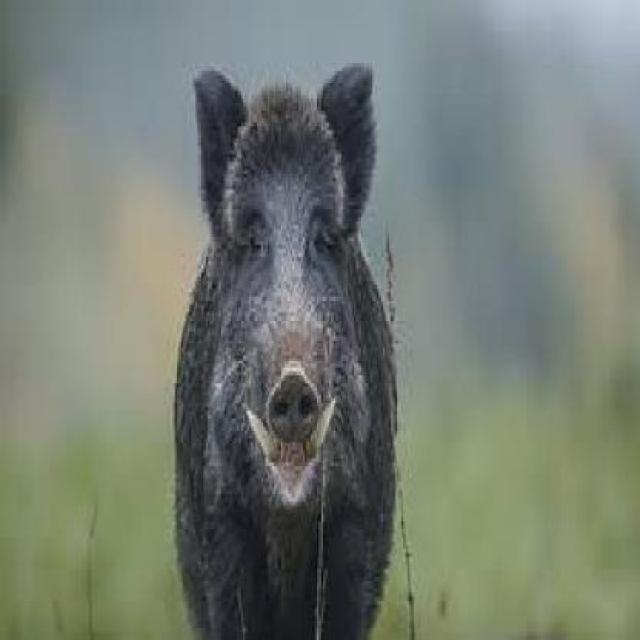wildboar: (168, 58, 398, 640)
